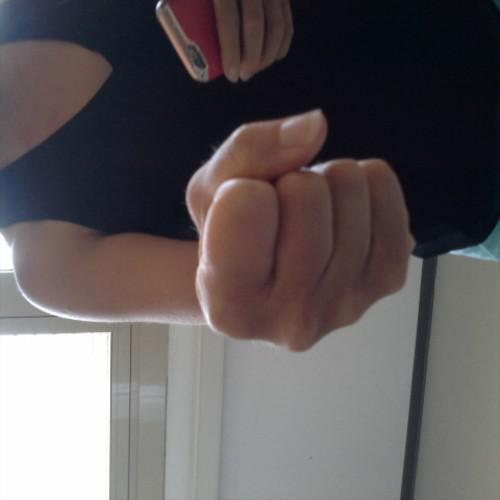rock: (179, 100, 422, 359)
